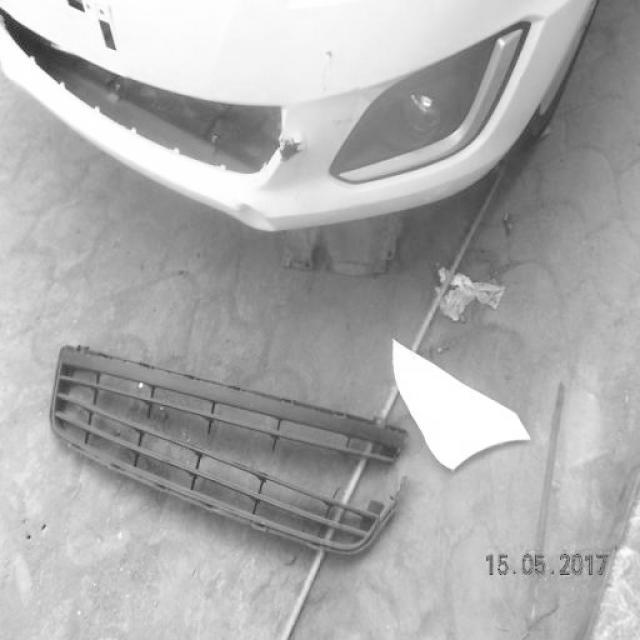car damage: (2, 7, 280, 188), (320, 48, 337, 101), (279, 136, 307, 165), (347, 82, 370, 111)
